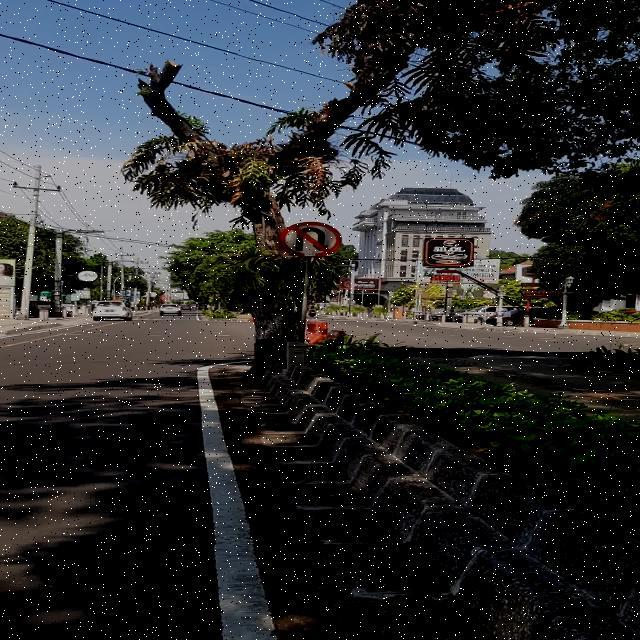Dilarang Putar Balik: (278, 222, 343, 256)
